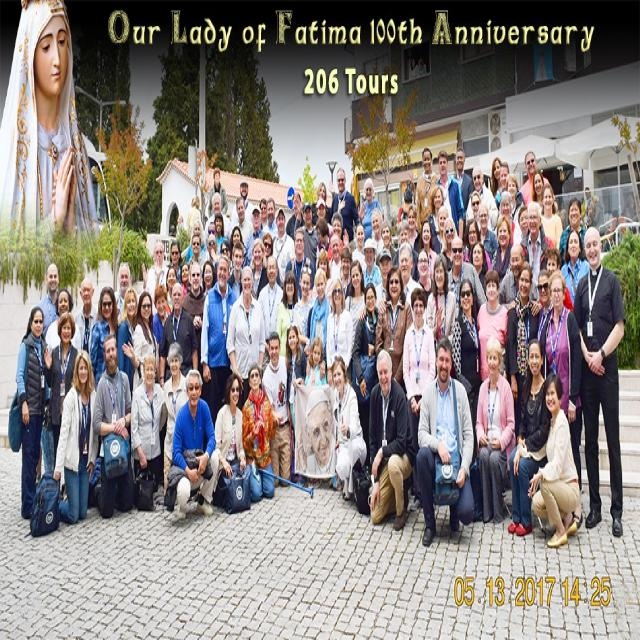body: (2, 0, 100, 231), (570, 224, 626, 542), (415, 335, 476, 549), (538, 268, 585, 532), (505, 335, 554, 539), (526, 372, 582, 550), (8, 305, 52, 522), (367, 347, 417, 532), (50, 345, 98, 526), (89, 332, 135, 518), (162, 368, 216, 524), (474, 334, 517, 527), (402, 286, 437, 512), (121, 290, 160, 486), (43, 309, 79, 504), (506, 258, 542, 446), (199, 253, 237, 431), (224, 263, 267, 413), (240, 362, 284, 505), (351, 280, 381, 484), (34, 261, 61, 483), (451, 276, 481, 464), (128, 349, 166, 494), (331, 354, 368, 502), (374, 265, 414, 397), (158, 340, 190, 501), (261, 330, 292, 488), (210, 372, 246, 506), (157, 280, 199, 391), (518, 199, 556, 319), (180, 260, 209, 402), (285, 323, 308, 490), (476, 267, 509, 383), (498, 239, 544, 319), (257, 253, 286, 378), (447, 236, 488, 322), (305, 264, 334, 382), (325, 167, 368, 246), (88, 283, 119, 392), (325, 276, 353, 383), (426, 252, 457, 344), (559, 227, 591, 314), (435, 148, 465, 240), (116, 284, 140, 398), (43, 287, 82, 357), (536, 245, 575, 313), (519, 148, 558, 215), (414, 146, 441, 238), (398, 239, 427, 323), (464, 164, 500, 231), (284, 226, 316, 301), (343, 258, 368, 350), (292, 264, 316, 358), (276, 270, 301, 360), (558, 194, 589, 264), (305, 396, 336, 466), (272, 205, 296, 292), (292, 199, 319, 275), (536, 266, 554, 380), (73, 275, 98, 356), (537, 183, 564, 252), (391, 219, 420, 282), (140, 239, 172, 296), (464, 215, 493, 272), (491, 213, 513, 288), (469, 240, 489, 320), (312, 196, 346, 243), (476, 202, 498, 274), (151, 282, 172, 357), (204, 191, 233, 244), (451, 146, 474, 212), (152, 257, 179, 312), (506, 172, 526, 246), (228, 194, 255, 247), (360, 175, 382, 240), (230, 175, 256, 230), (249, 235, 270, 302), (303, 334, 329, 386), (245, 203, 266, 266), (418, 217, 439, 280), (374, 245, 394, 308), (426, 183, 444, 251), (213, 239, 236, 291), (439, 215, 459, 274), (360, 237, 382, 290), (207, 167, 229, 220), (227, 239, 246, 300), (376, 218, 398, 268), (285, 191, 306, 243), (113, 261, 132, 318), (349, 220, 368, 276), (310, 181, 333, 227), (185, 217, 208, 263), (200, 220, 222, 268), (315, 216, 334, 270), (499, 189, 516, 248), (431, 204, 450, 256), (416, 246, 433, 302), (228, 223, 248, 269), (584, 182, 604, 227), (494, 160, 511, 212), (328, 209, 345, 260), (165, 239, 183, 287), (339, 244, 354, 301), (394, 176, 414, 216), (405, 201, 420, 252), (328, 232, 343, 282), (264, 195, 280, 241), (186, 232, 205, 270), (368, 209, 384, 253), (213, 210, 228, 256), (204, 232, 222, 270), (531, 168, 545, 214), (200, 258, 216, 296), (517, 202, 531, 245), (168, 209, 186, 241), (470, 188, 483, 232), (624, 180, 638, 220), (316, 246, 331, 282), (490, 156, 502, 196), (179, 261, 190, 296), (262, 231, 274, 261), (259, 196, 268, 230)
